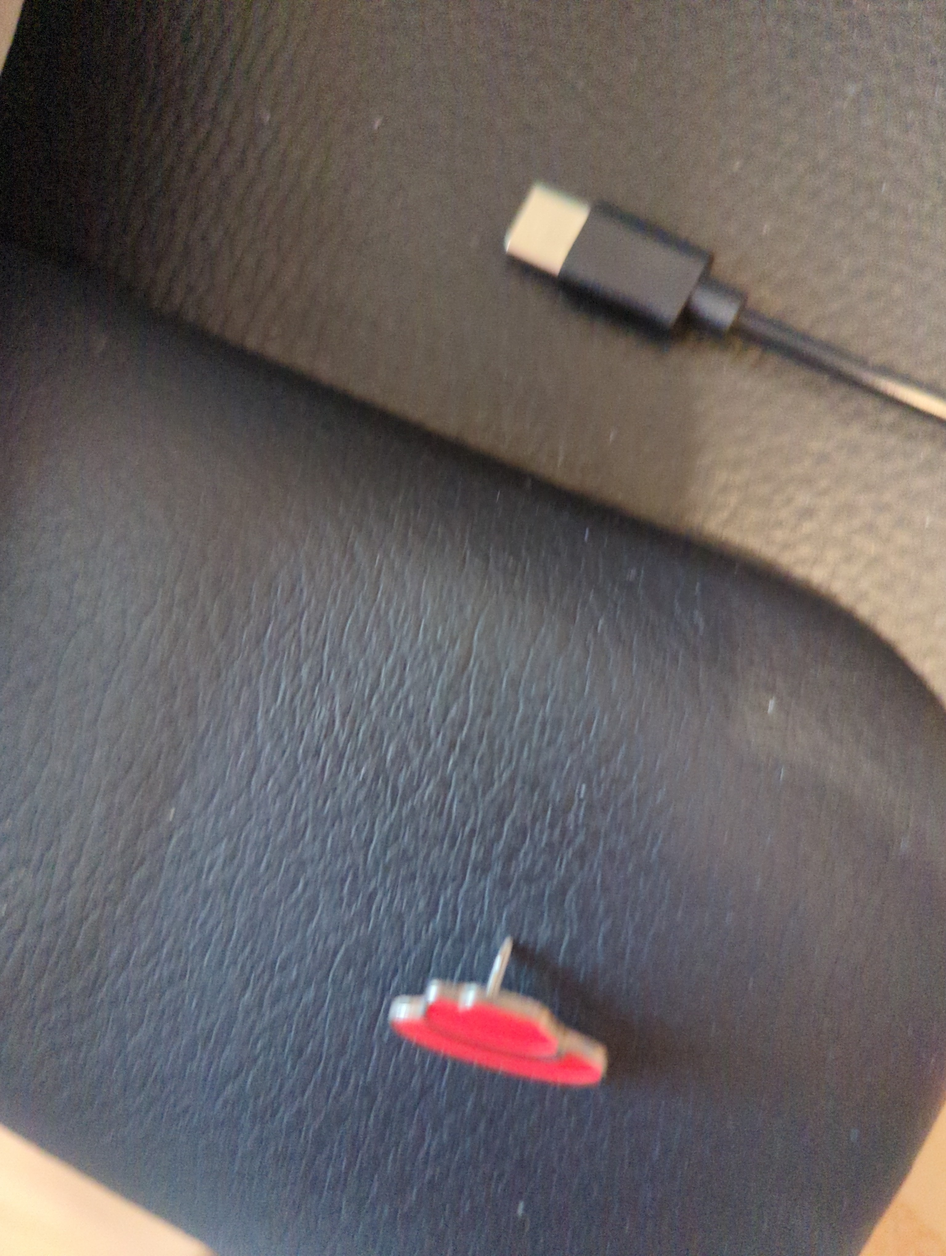Red-Hat: (312, 845, 683, 1188)
